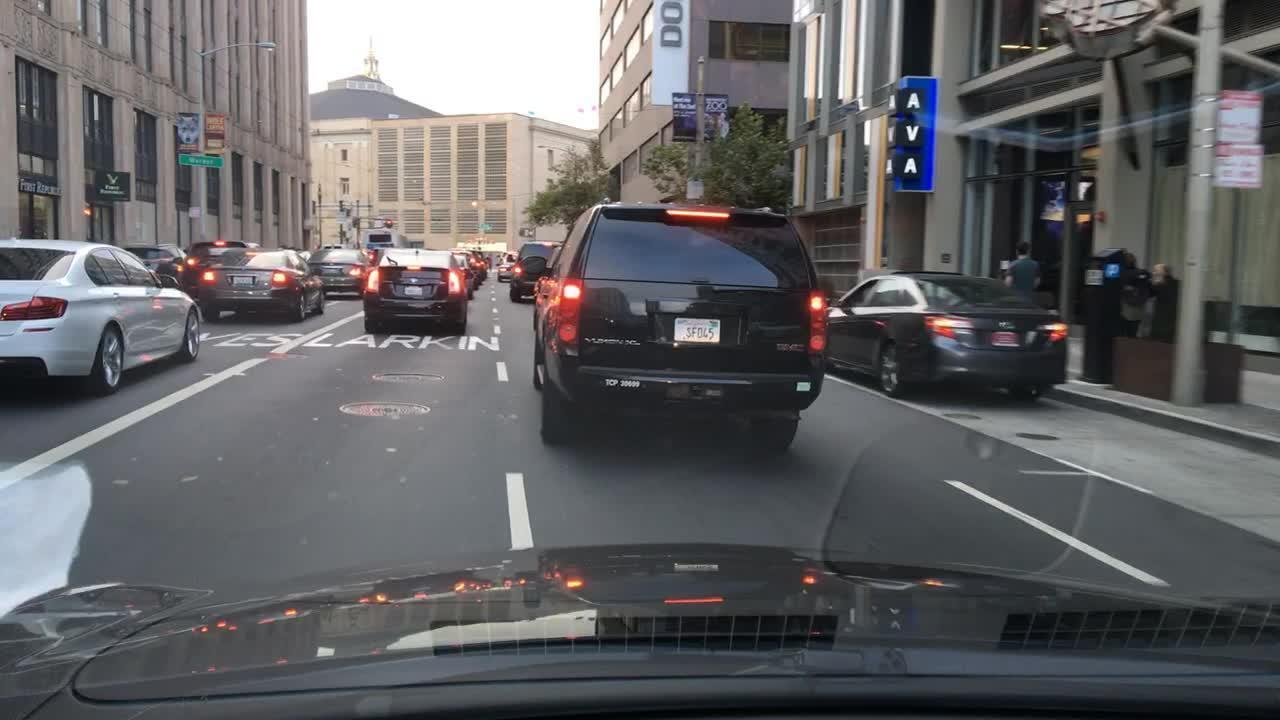GMC: (772, 337, 808, 358)
